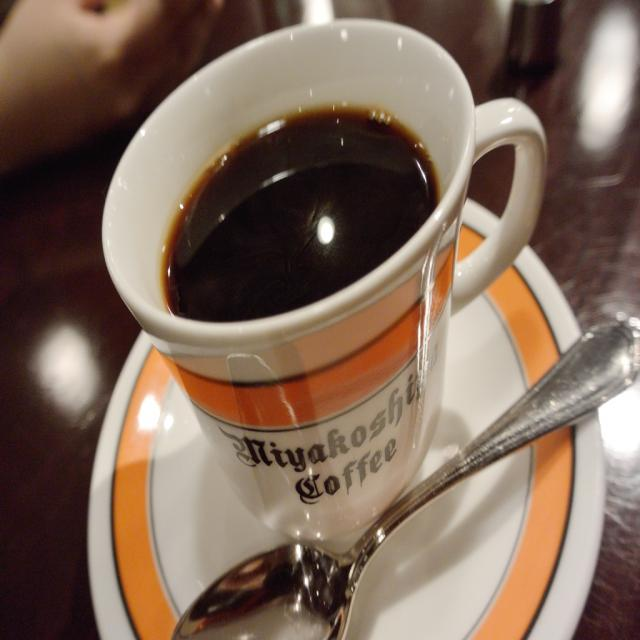Coffee: (160, 103, 439, 322)
Tea: (156, 112, 438, 316)
